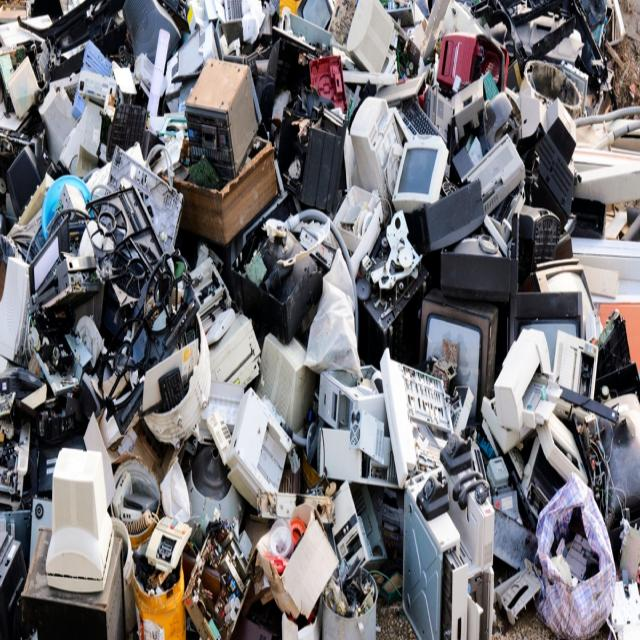hazard: (4, 16, 629, 619)
